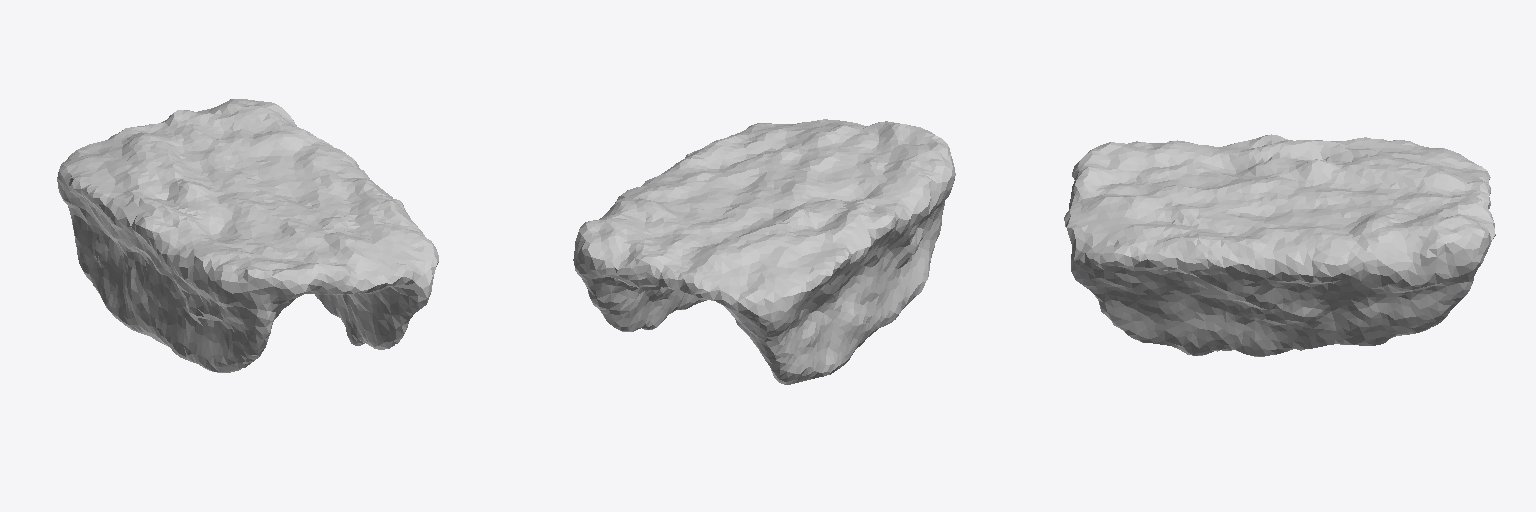
Rendered from Tunnel 1.obj.
3 renders of one model, left to right at view 1: azimuth 30°, elevation 25°; view 2: azimuth 150°, elevation 25°; view 3: azimuth 270°, elevation 25°, orthographic.
Visible parts, largest first — view 1: Tunnel_Icosphere.004; view 2: Tunnel_Icosphere.004; view 3: Tunnel_Icosphere.004.
Boxes of the visible parts, x1=… form: Tunnel_Icosphere.004: x1=57, y1=99, x2=438, y2=372; Tunnel_Icosphere.004: x1=573, y1=119, x2=955, y2=384; Tunnel_Icosphere.004: x1=1064, y1=134, x2=1495, y2=356.
Bounding box in the file's own units: 10.71 × 5.98 × 16.28.